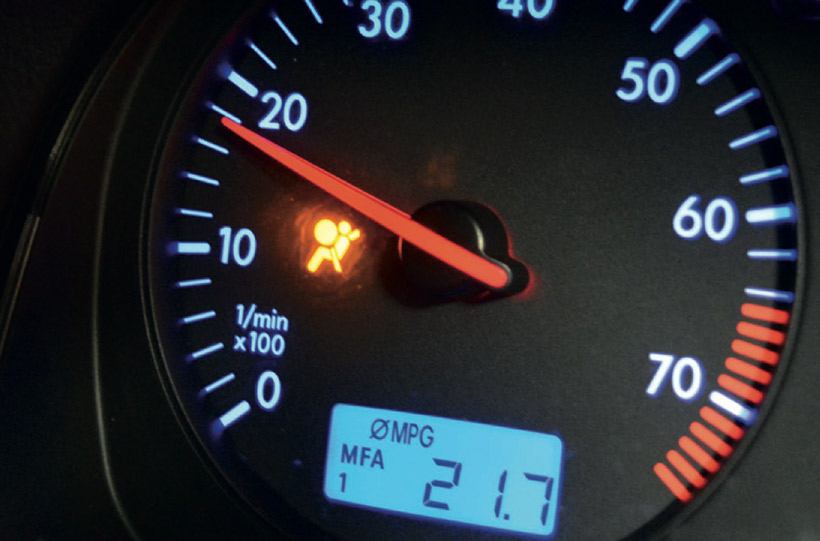Airbag_warning: (301, 212, 363, 290)
